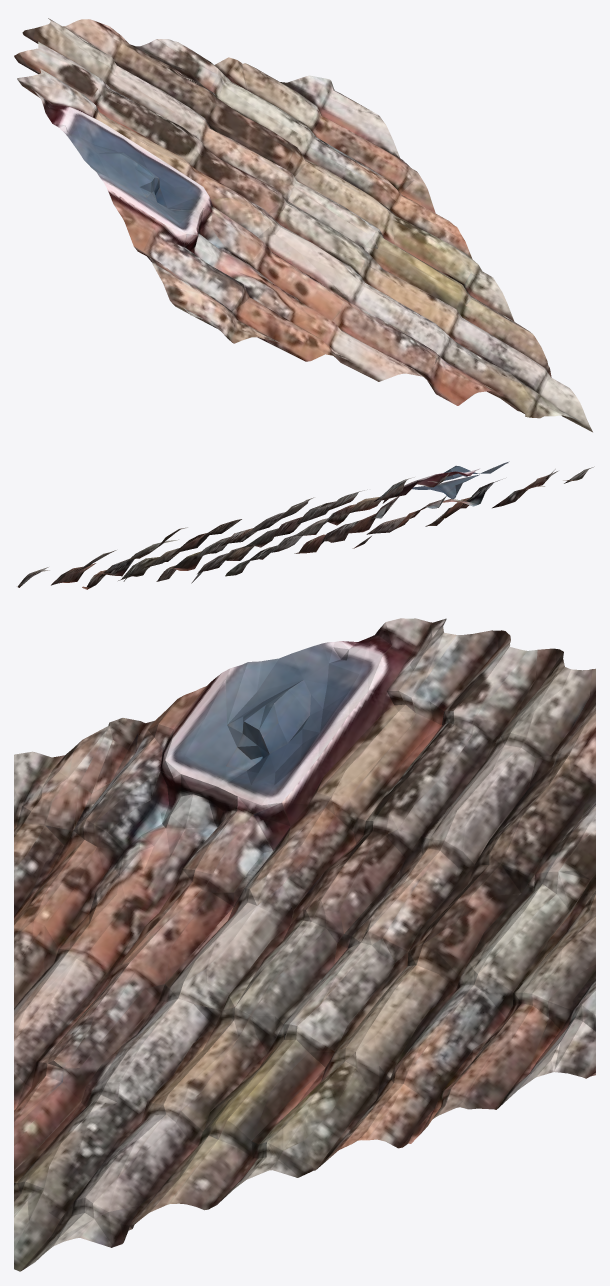
The picture shows the model from 3 angles, top to bottom: view 1: azimuth 30°, elevation 25°; view 2: azimuth 150°, elevation 25°; view 3: azimuth 270°, elevation 25°; orthographic projection. The views are drawn at different scales.
Bounding box in the file's own units: 1.67 × 1.29 × 1.67.
3 materials, 3 textured.
